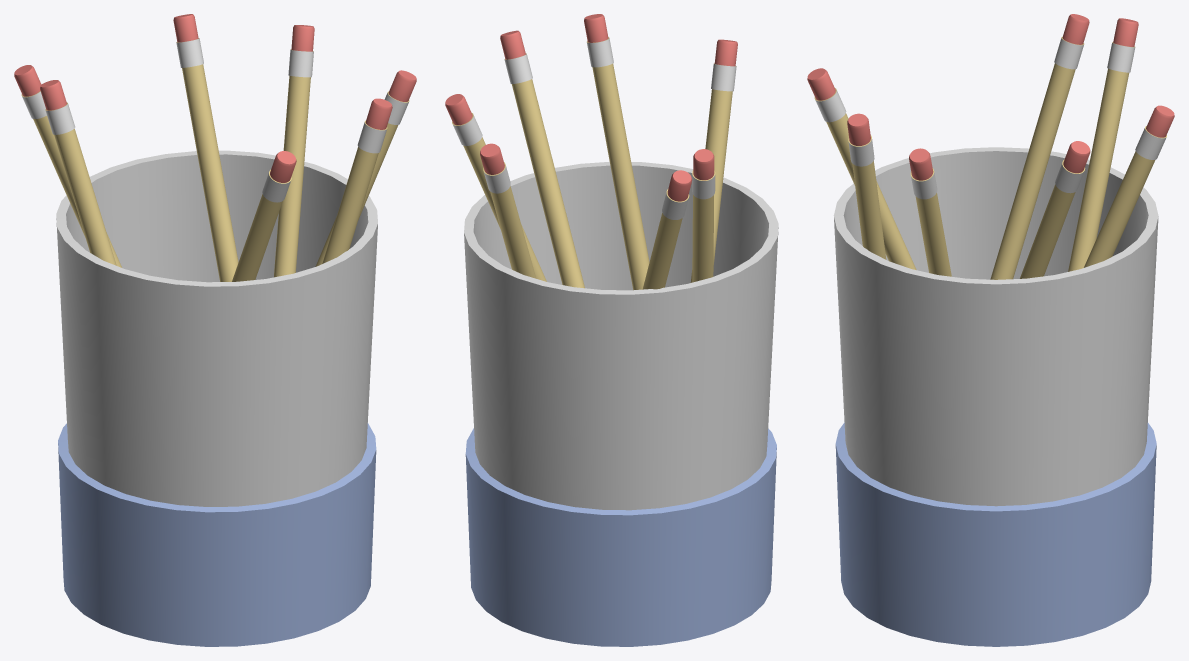
Rendered from pencil cups.fbx.
The picture shows the model from 3 angles, left to right: view 1: azimuth 30°, elevation 25°; view 2: azimuth 150°, elevation 25°; view 3: azimuth 270°, elevation 25°; orthographic projection. The views are drawn at different scales.
Parts seen in each view (by area): view 1: cup, pencil.004, pencil.006, pencil.005, pencil.001, pencil.002, pencil.003, pencil; view 2: cup, pencil.001, pencil, pencil.002, pencil.004, pencil.005, pencil.003, pencil.006; view 3: cup, pencil.005, pencil.003, pencil.004, pencil.006, pencil.002, pencil.001, pencil.
Boxes of the visible parts, x1=… form: cup: x1=56, y1=150, x2=377, y2=646; pencil.004: x1=173, y1=14, x2=238, y2=281; pencil.006: x1=274, y1=25, x2=314, y2=277; pencil.005: x1=40, y1=80, x2=116, y2=265; pencil.001: x1=322, y1=98, x2=392, y2=263; pencil.002: x1=232, y1=151, x2=296, y2=281; pencil.003: x1=14, y1=65, x2=121, y2=267; pencil: x1=315, y1=70, x2=416, y2=266; cup: x1=464, y1=161, x2=778, y2=646; pencil.001: x1=584, y1=14, x2=649, y2=290; pencil: x1=500, y1=30, x2=584, y2=288; pencil.002: x1=690, y1=39, x2=737, y2=282; pencil.004: x1=480, y1=143, x2=536, y2=278; pencil.005: x1=692, y1=149, x2=715, y2=282; pencil.003: x1=642, y1=170, x2=692, y2=289; pencil.006: x1=445, y1=94, x2=546, y2=281; cup: x1=834, y1=147, x2=1158, y2=646; pencil.005: x1=990, y1=14, x2=1089, y2=279; pencil.003: x1=1068, y1=18, x2=1138, y2=271; pencil.004: x1=1084, y1=105, x2=1174, y2=267; pencil.006: x1=1020, y1=141, x2=1090, y2=278; pencil.002: x1=807, y1=68, x2=916, y2=269; pencil.001: x1=847, y1=113, x2=886, y2=259; pencil: x1=909, y1=148, x2=951, y2=276.
Size of the model in its own units: 16.91 by 27.46 by 17.8.
